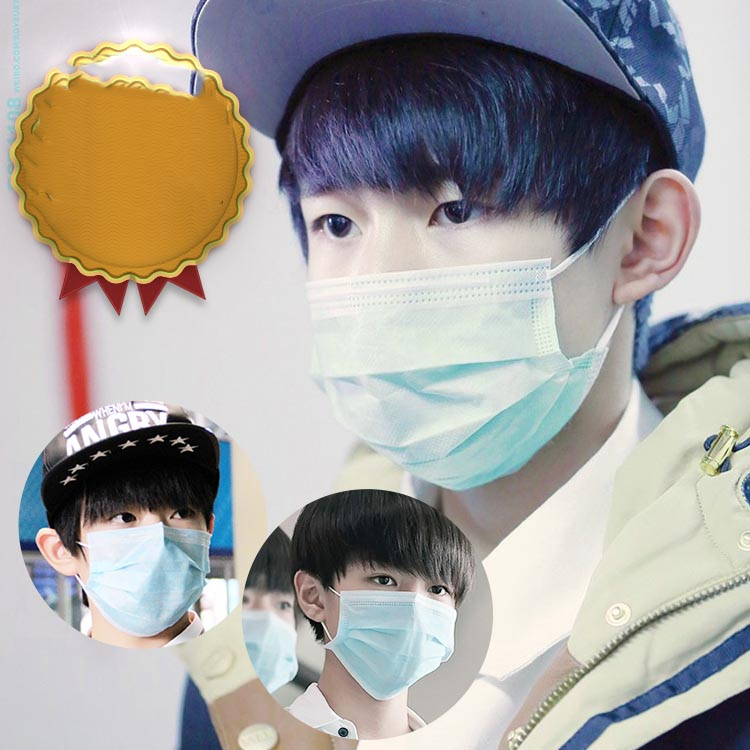face_mask: (301, 79, 598, 493), (82, 464, 211, 637), (335, 535, 463, 700)
